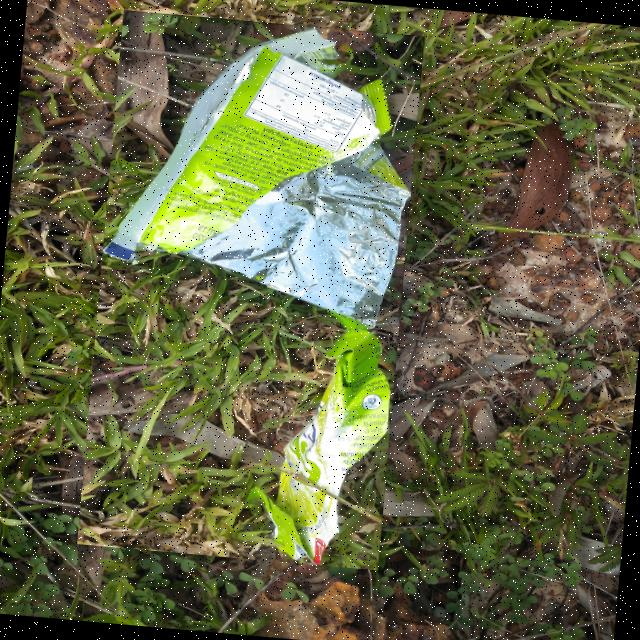Other plastic: (102, 28, 410, 565)
